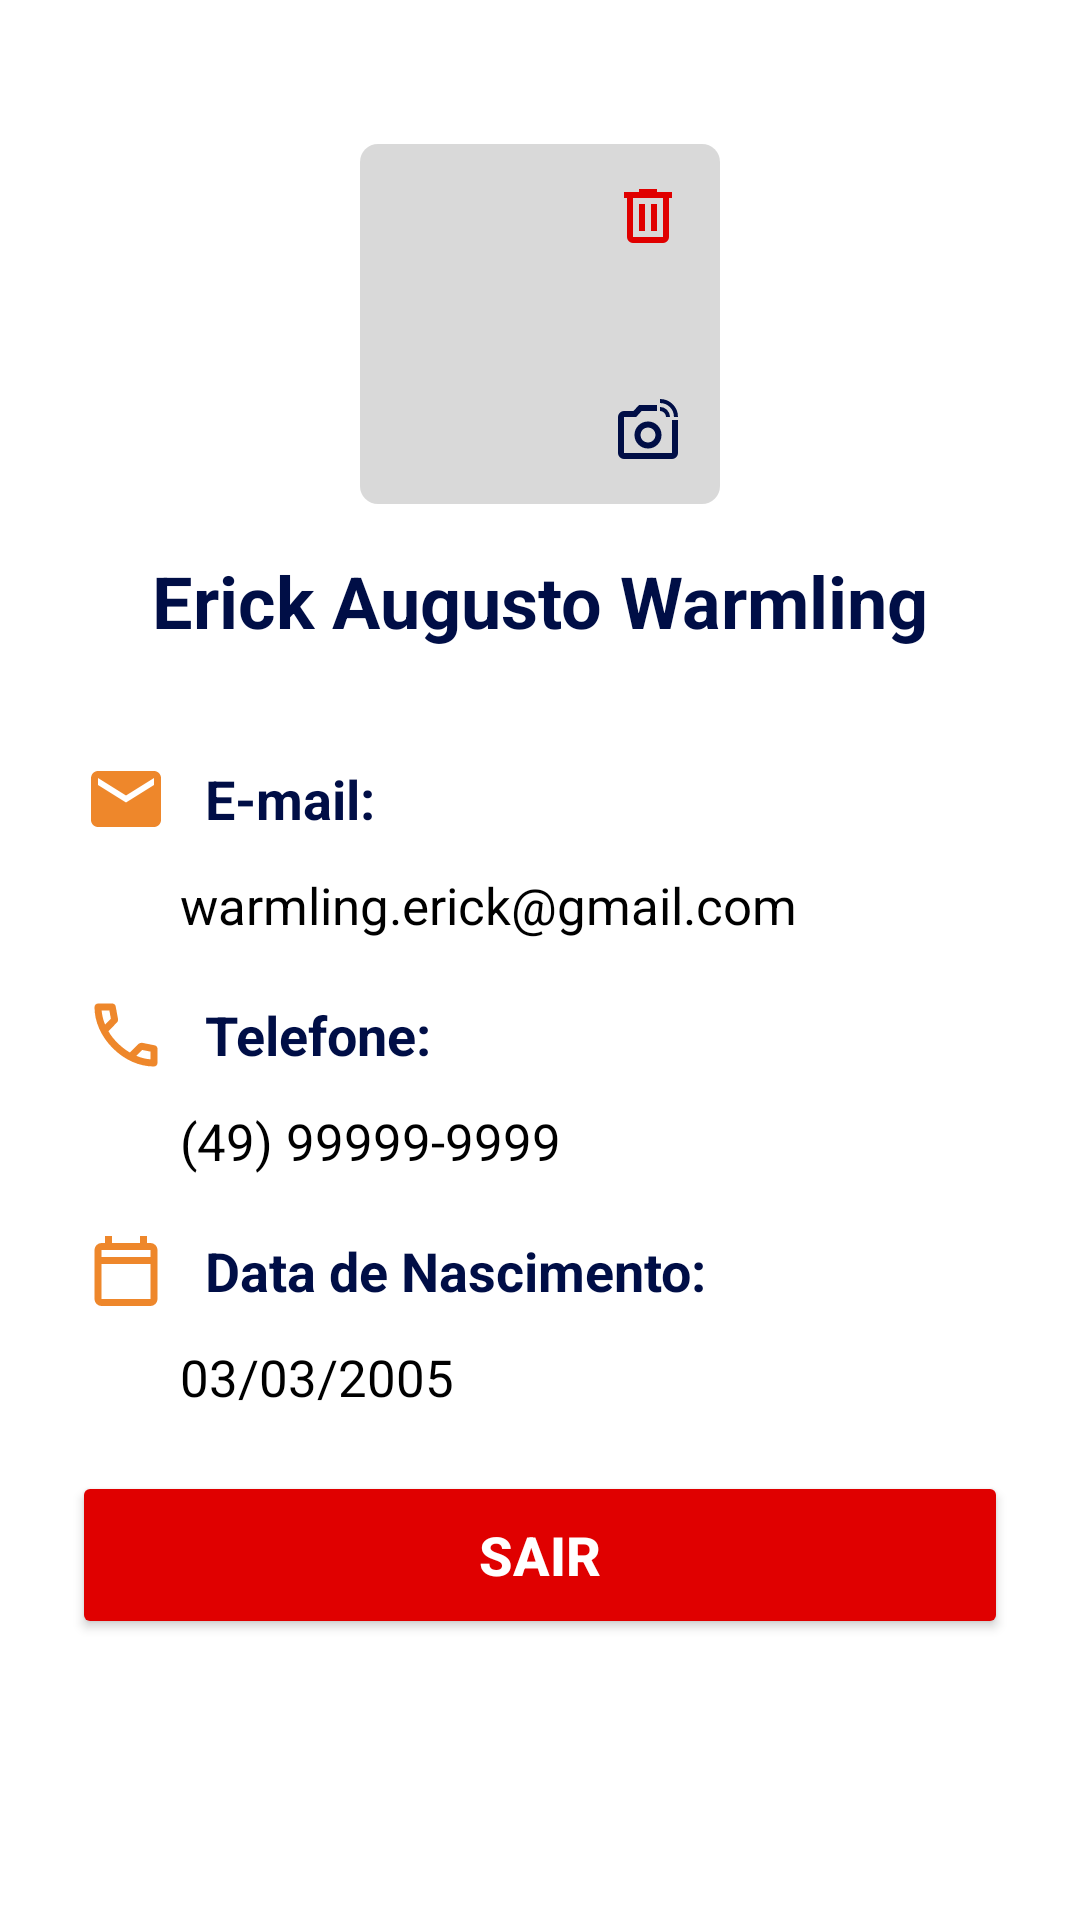

Screen size 1080 x 1920. Icon name, then its box in pixels as (x1, y1, x2, y2):
calendar: (94, 1236, 158, 1306)
Editar foto: (618, 399, 678, 459)
phone: (94, 1003, 158, 1067)
Remover foto: (624, 189, 672, 243)
